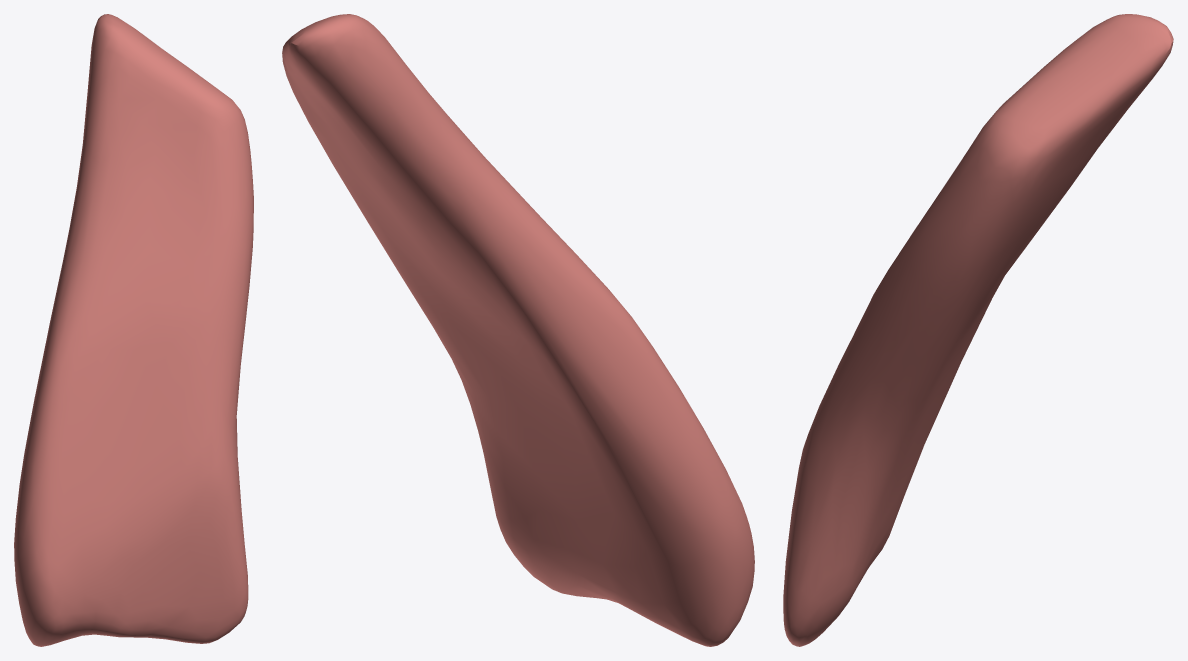
The model's file is fma81570_mm2385m.glb.
3 renders of one model, left to right at view 1: azimuth 30°, elevation 25°; view 2: azimuth 150°, elevation 25°; view 3: azimuth 270°, elevation 25°, orthographic. The views are drawn at different scales.
Parts seen in each view (by area): view 1: FMA81570_MM2385M; view 2: FMA81570_MM2385M; view 3: FMA81570_MM2385M.
Part boxes in pixels (x1=…): FMA81570_MM2385M: x1=14, y1=14, x2=253, y2=646; FMA81570_MM2385M: x1=282, y1=14, x2=754, y2=646; FMA81570_MM2385M: x1=783, y1=14, x2=1173, y2=646.
Size of the model in its own units: 0.0168 by 0.0294 by 0.016.
